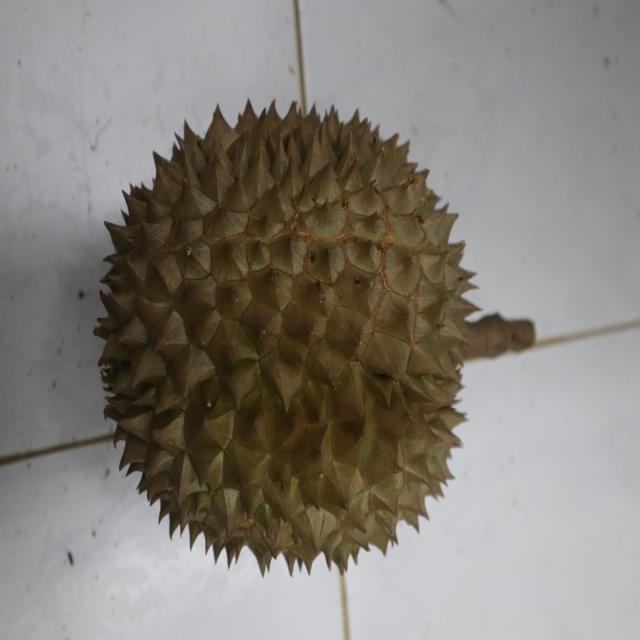mature: (91, 95, 481, 577)
